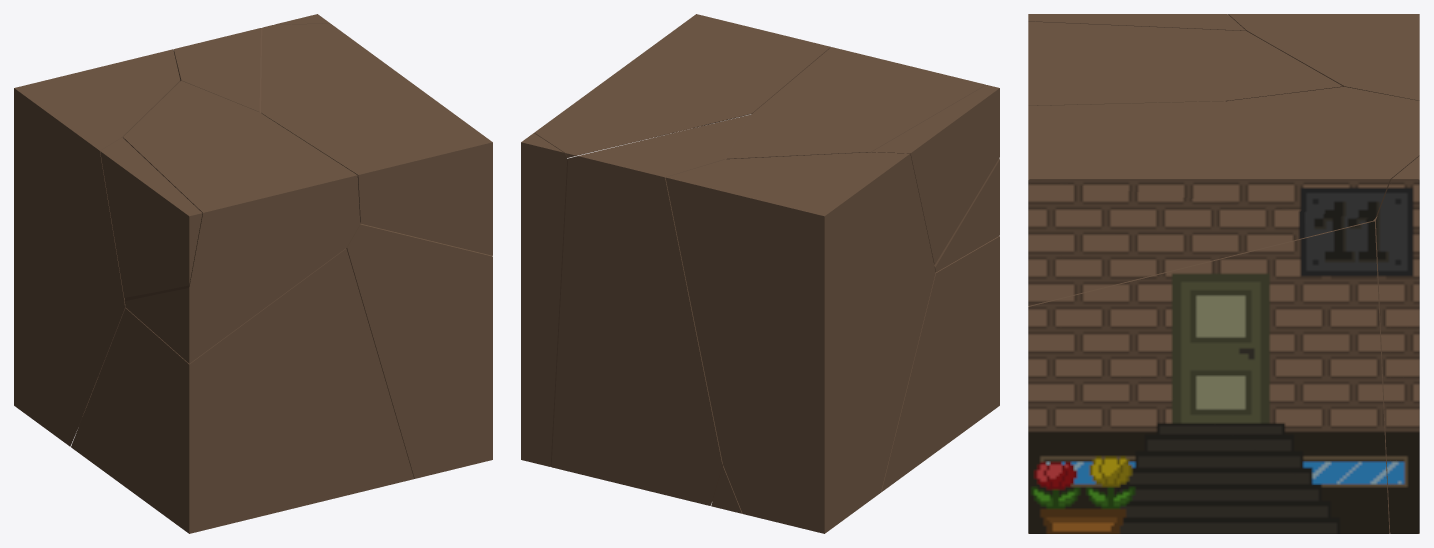
File: BrickBuildingBrown128x128_Ground01_break.fbx
The picture shows the model from 3 angles, left to right: view 1: azimuth 30°, elevation 25°; view 2: azimuth 150°, elevation 25°; view 3: azimuth 270°, elevation 25°; orthographic projection. The views are drawn at different scales.
Visible parts, largest first — view 1: Ground01Break03, Ground01Break06, Ground01Break04, Ground01Break07, Ground01Break05, Ground01Break01; view 2: Ground01Break06, Ground01Break07, Ground01Break05, Ground01Break04, Ground01Break03, Ground01Break02, Ground01Break01; view 3: Ground01Break07, Ground01Break05, Ground01Break04, Ground01Break02, Ground01Break06, Ground01Break01.
Boxes of the visible parts, x1,y1,x2,y2 form: Ground01Break03: (71, 248, 413, 533); Ground01Break06: (14, 49, 180, 446); Ground01Break04: (123, 80, 360, 363); Ground01Break07: (173, 28, 492, 478); Ground01Break05: (261, 23, 492, 255); Ground01Break01: (100, 137, 202, 297); Ground01Break06: (665, 152, 935, 533); Ground01Break07: (550, 114, 751, 505); Ground01Break05: (534, 14, 830, 157); Ground01Break04: (726, 47, 999, 272); Ground01Break03: (711, 236, 999, 513); Ground01Break02: (521, 133, 567, 466); Ground01Break01: (872, 85, 999, 264); Ground01Break07: (1028, 86, 1419, 533); Ground01Break05: (1028, 101, 1419, 305); Ground01Break04: (1028, 21, 1342, 105); Ground01Break02: (1376, 156, 1419, 533); Ground01Break06: (1228, 14, 1419, 100); Ground01Break01: (1028, 14, 1245, 30).
Size of the model in its own units: 100 by 100 by 100.
Materials: 1 (1 with a texture image).
